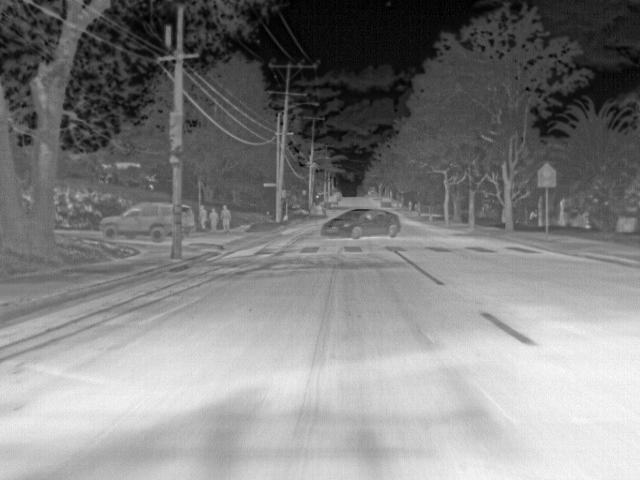car: (98, 202, 173, 242), (320, 206, 402, 239), (182, 203, 196, 239), (311, 204, 328, 218), (379, 198, 394, 210), (329, 193, 341, 207)
person: (196, 202, 209, 232), (219, 202, 232, 230), (207, 206, 220, 232)
